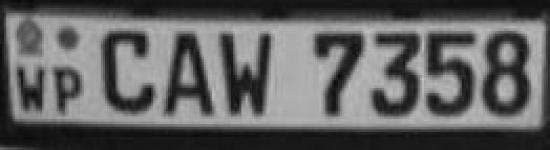3: (367, 27, 424, 121)
5: (424, 26, 480, 122)
7: (303, 25, 365, 124)
8: (478, 23, 534, 126)
A: (159, 29, 220, 124)
C: (95, 25, 160, 118)
P: (53, 62, 87, 121)
W: (217, 25, 279, 123), (13, 59, 51, 119)
